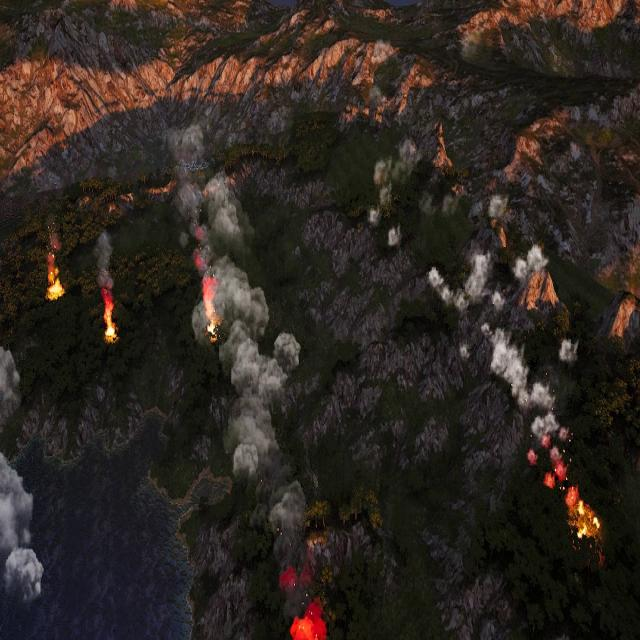fire: (567, 487, 600, 540), (289, 602, 330, 640), (202, 278, 221, 342), (103, 297, 117, 342), (49, 270, 66, 300)
smoke: (170, 130, 308, 640), (427, 248, 582, 496), (0, 337, 46, 605), (368, 142, 418, 252), (95, 228, 114, 298), (48, 220, 59, 276), (488, 192, 508, 222)
